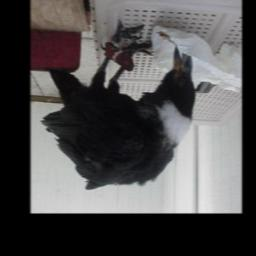Crow: (40, 20, 198, 191)
